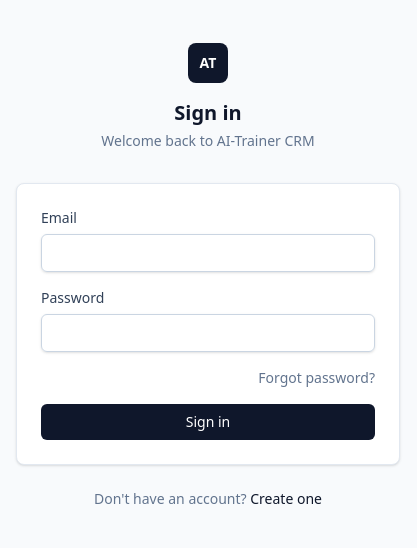
Test: LoginPage › shows the server's error message and does not navigate on failed login
Type "owner@example.com" into the field labelled "Email".
click(208, 253); type("owner@example.com")  # box [41,234,375,272]
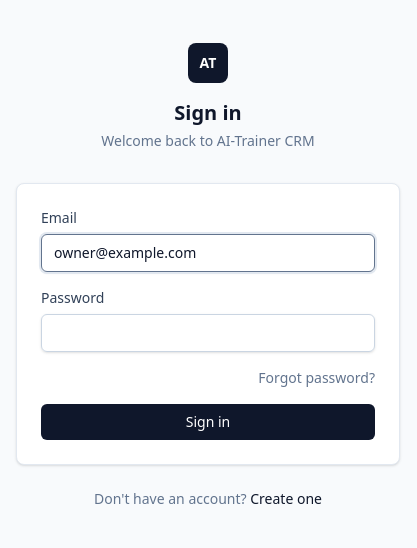
Type "wrong-password" into the password field labelled "Password".
click(208, 333); type("wrong-password")  # box [41,314,375,352]
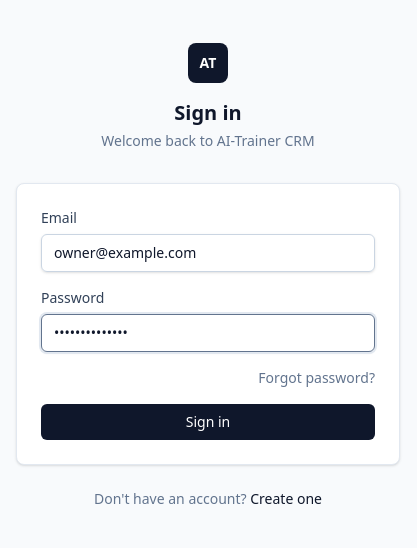
Click the button "Sign in".
click(208, 422)  # box [41,404,375,440]
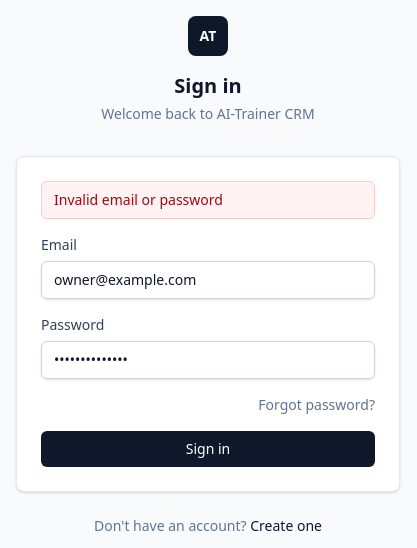
Now the message reads "Invalid email or password", box [54,190,223,209]
